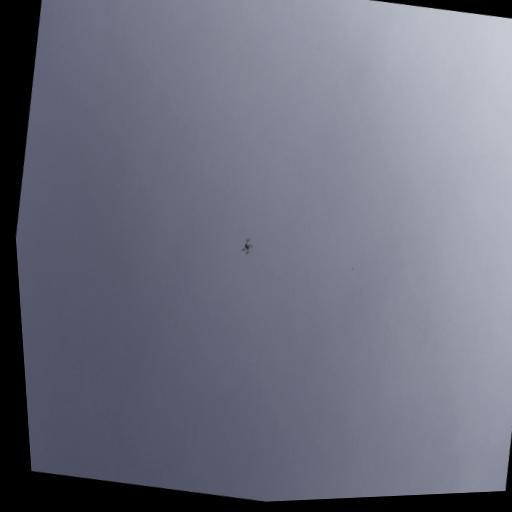drones: (238, 235, 255, 257)
